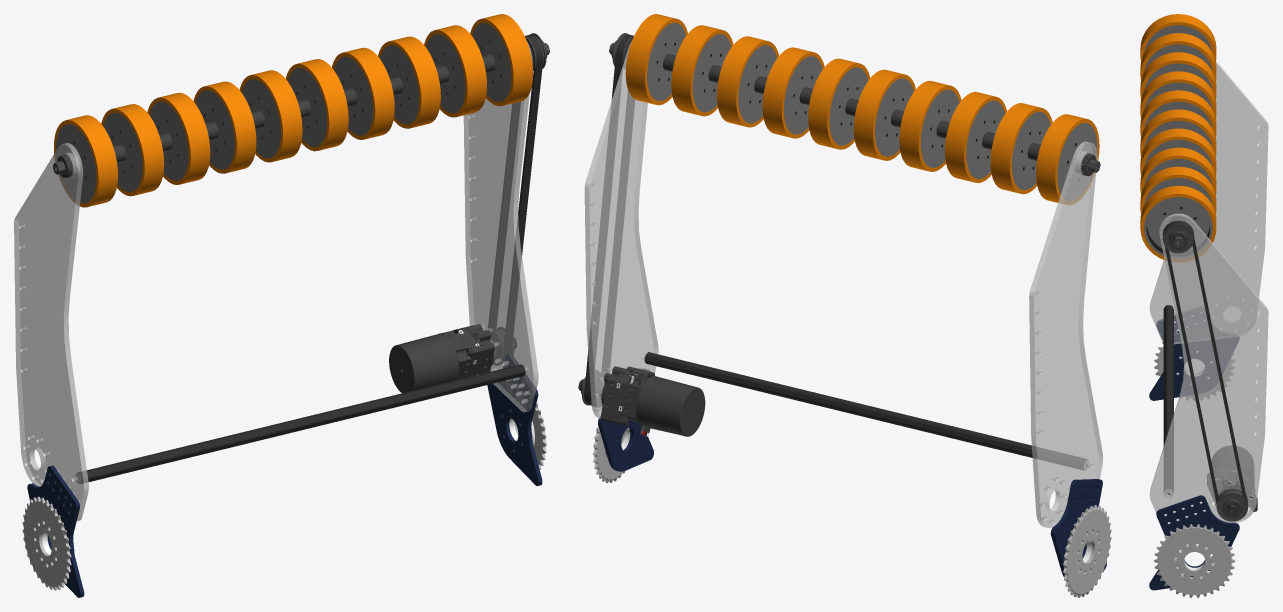
3 views of the same model, side by side, from view 1: azimuth 30°, elevation 25°; view 2: azimuth 150°, elevation 25°; view 3: azimuth 270°, elevation 25° (orthographic). The views are drawn at different scales.
Visible parts, largest first — view 1: 4" OD 1/2" Hex ID Stealth Wheel 40A (am-2647) (×10), Polycarb plate (×2), 1/2" Rounded Hex (13.75mm OD)-22.875", aluminum plate (×2), 185T 5M 9mm Wide Belt, NEO Brushless Motor, am-4794 34T 35 Chain 1125in Plate; view 2: 4" OD 1/2" Hex ID Stealth Wheel 40A (am-2647) (×10), Polycarb plate (×2), 1/2" Rounded Hex (13.75mm OD)-22.875", 185T 5M 9mm Wide Belt, am-4794 34T 35 Chain 1125in Plate (×2), aluminum plate (×2), NEO Brushless Motor, MAXPlanetary Output Slice; view 3: Polycarb plate (×2), 4" OD 1/2" Hex ID Stealth Wheel 40A (am-2647) (×10), aluminum plate (×2), am-4794 34T 35 Chain 1125in Plate (×2), 185T 5M 9mm Wide Belt, 1/2" Rounded Hex (13.75mm OD)-22.875", 24T x 9mm Wide Pulley (HTD 5mm, 1/2" Hex) (×2), NEO Brushless Motor, MAXPlanetary Output Slice, 1/2" Hex Clamping Shaft Collar (217-2737) (×2).
Boxes of the visible parts, x1,y1,x2,y2 form: 4" OD 1/2" Hex ID Stealth Wheel 40A (am-2647) (×10): (54, 14, 532, 207); Polycarb plate (×2): (14, 41, 538, 521); 1/2" Rounded Hex (13.75mm OD)-22.875": (75, 364, 525, 483); aluminum plate (×2): (27, 354, 542, 597); 185T 5M 9mm Wide Belt: (488, 34, 543, 363); NEO Brushless Motor: (389, 333, 458, 393); am-4794 34T 35 Chain 1125in Plate: (22, 496, 71, 590); 4" OD 1/2" Hex ID Stealth Wheel 40A (am-2647) (×10): (625, 14, 1099, 204); Polycarb plate (×2): (584, 41, 1102, 527); 1/2" Rounded Hex (13.75mm OD)-22.875": (644, 352, 1089, 470); 185T 5M 9mm Wide Belt: (584, 34, 634, 405); am-4794 34T 35 Chain 1125in Plate (×2): (593, 426, 1111, 597); aluminum plate (×2): (598, 368, 1106, 576); NEO Brushless Motor: (636, 376, 705, 436); MAXPlanetary Output Slice: (600, 366, 638, 422); Polycarb plate (×2): (1149, 61, 1268, 523); 4" OD 1/2" Hex ID Stealth Wheel 40A (am-2647) (×10): (1140, 14, 1216, 262); aluminum plate (×2): (1149, 314, 1239, 590); am-4794 34T 35 Chain 1125in Plate (×2): (1154, 341, 1235, 597); 185T 5M 9mm Wide Belt: (1163, 221, 1247, 505); 1/2" Rounded Hex (13.75mm OD)-22.875": (1163, 305, 1173, 497); 24T x 9mm Wide Pulley (HTD 5mm, 1/2" Hex) (×2): (1162, 220, 1247, 521); NEO Brushless Motor: (1211, 445, 1254, 485); MAXPlanetary Output Slice: (1207, 473, 1257, 511); 1/2" Hex Clamping Shaft Collar (217-2737) (×2): (1169, 230, 1241, 517).
Size of the model in its own units: 0.6433 by 0.5826 by 0.1712.
